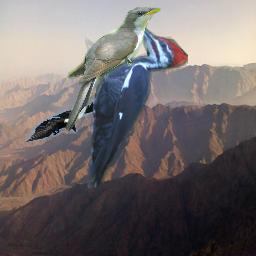Crow: (25, 99, 99, 142)
Cuckoo: (65, 7, 161, 131)
Woodpecker: (85, 14, 188, 195)
